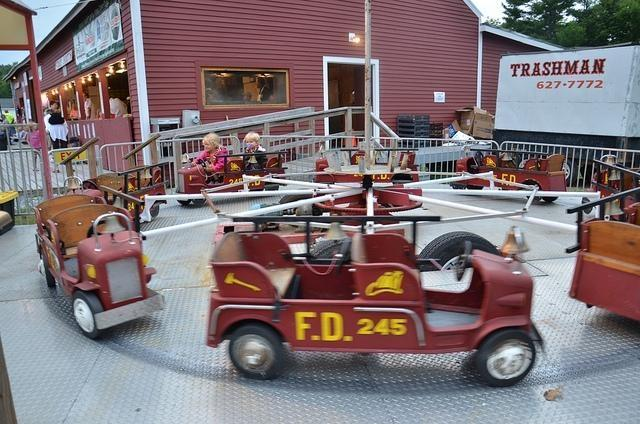truck: (206, 218, 548, 389), (33, 190, 166, 340), (495, 46, 640, 155), (565, 154, 640, 260), (80, 159, 170, 224), (177, 151, 287, 194)
